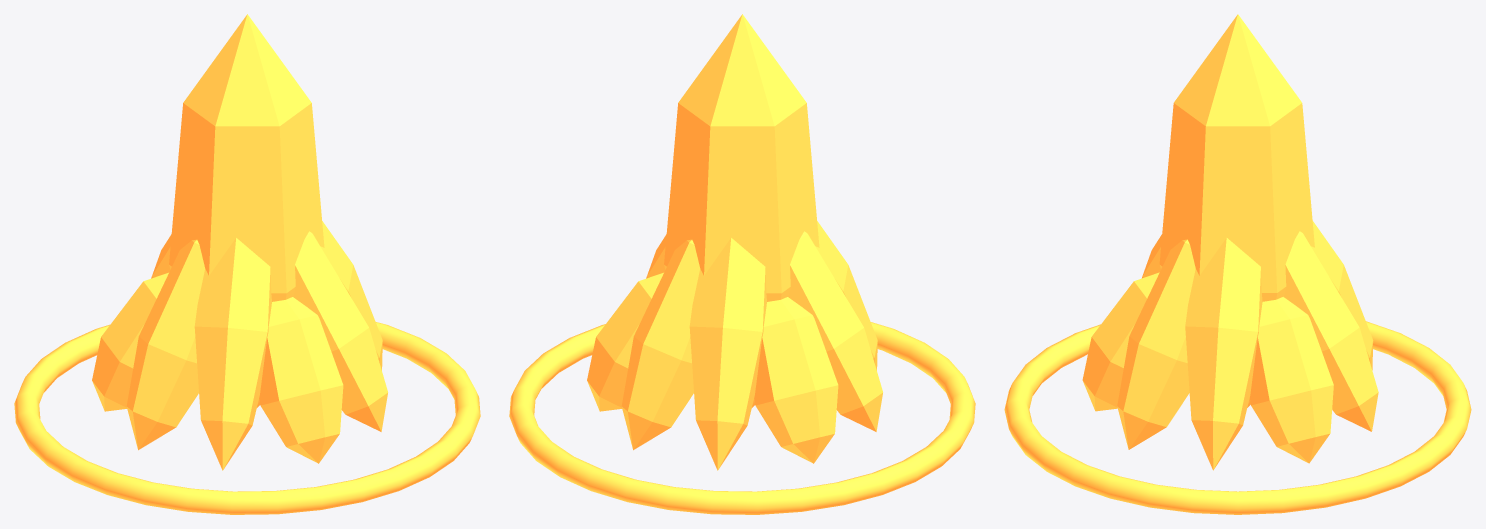
The model's file is moonsteel-convergence-crystal-impact-burst-05b7c645__18216.glb.
The picture shows the model from 3 angles, left to right: view 1: azimuth 30°, elevation 25°; view 2: azimuth 150°, elevation 25°; view 3: azimuth 270°, elevation 25°; orthographic projection.
Visible parts, largest first — view 1: crystal-impact-burst; view 2: crystal-impact-burst; view 3: crystal-impact-burst.
Part boxes in pixels (x1,y1,x2,y2): crystal-impact-burst: (14, 14, 480, 514); crystal-impact-burst: (509, 14, 975, 514); crystal-impact-burst: (1004, 14, 1471, 514).
Bounding box in the file's own units: 1.31 × 1.26 × 1.31.
